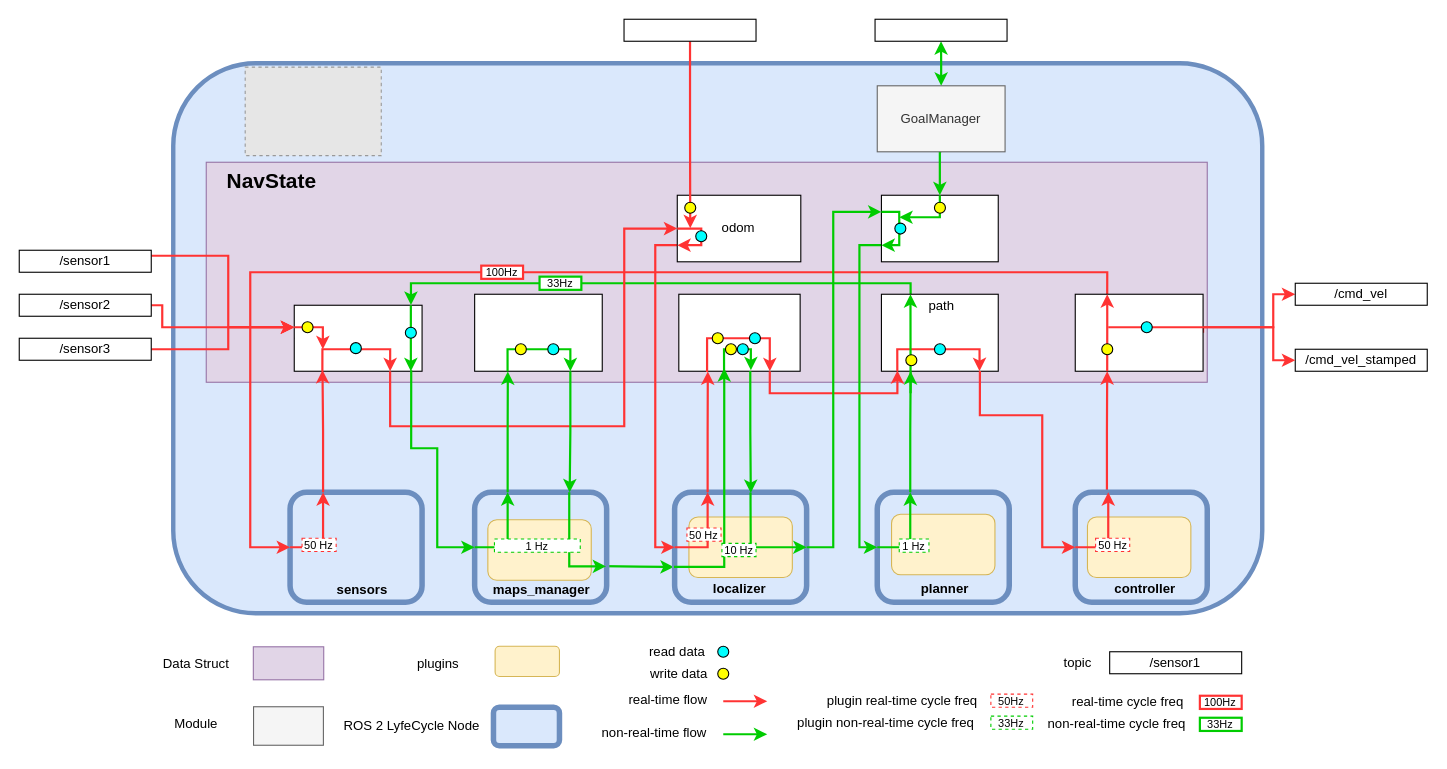
This 1447x769 diagram has some shape labels left out. Grey dashed boxes stand in for pictures. The shapes that lost their labels are listed below. From the top down, each one's centre as x and y in pixels, then its label:
At point 689,29: "/odom".
At point 940,29: "/easynav_control".
At point 939,228: "Goals".
At point 357,337: "perceptions".
At point 538,332: "maps".
At point 739,332: "pose".
At point 1138,332: "speed".
